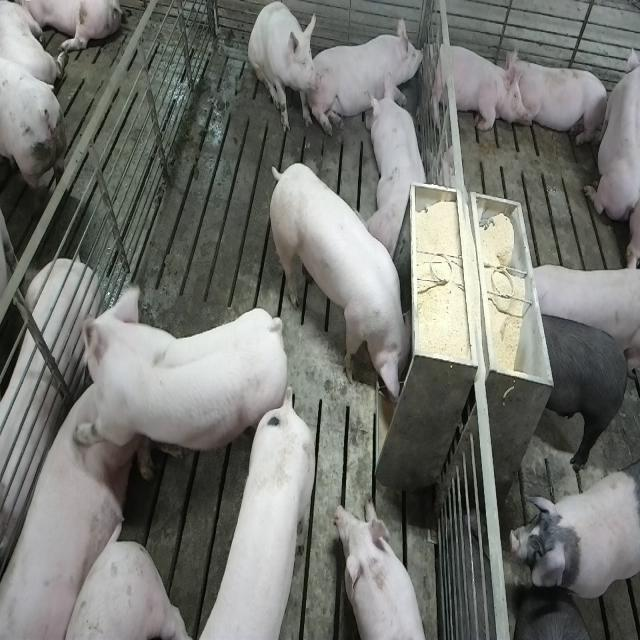Feeding: (272, 161, 420, 410)
Sitting: (248, 2, 321, 136)
Standing: (71, 292, 289, 495), (204, 388, 322, 640), (508, 465, 638, 610), (532, 306, 630, 470), (522, 266, 637, 356)
Sternal_lying: (333, 498, 432, 640), (315, 13, 425, 137), (368, 80, 430, 257), (584, 37, 637, 227), (510, 51, 611, 149), (425, 36, 521, 134)
